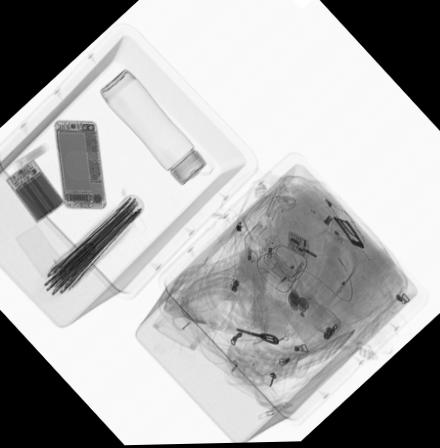Powerbank: (3, 159, 64, 222)
